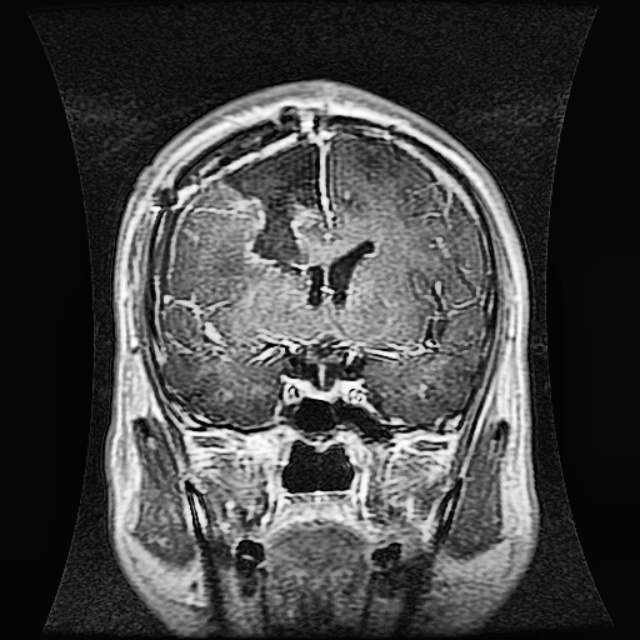Meningioma: (209, 128, 333, 275)
